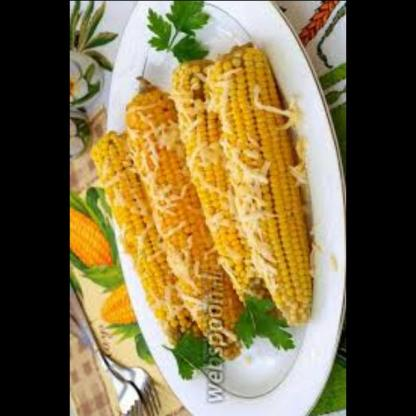corn: (128, 73, 254, 362), (213, 43, 312, 335), (172, 58, 274, 321), (88, 131, 202, 352)
